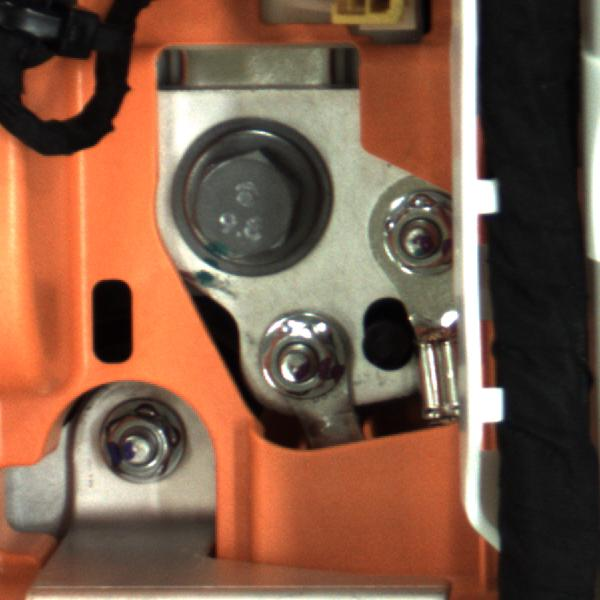nut_b: (168, 111, 328, 276)
screw_s: (93, 393, 186, 492), (249, 313, 342, 408), (375, 192, 461, 290)
